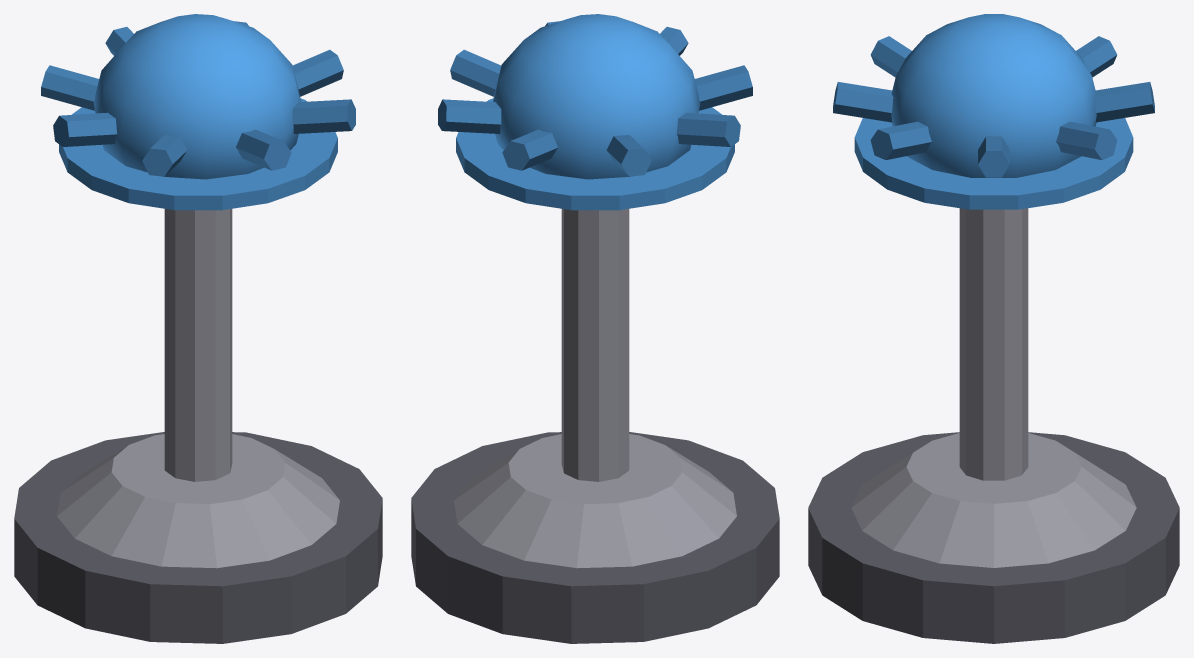
The model's file is Sprinkler_RareSprinkler.fbx.
The picture shows the model from 3 angles, left to right: view 1: azimuth 30°, elevation 25°; view 2: azimuth 150°, elevation 25°; view 3: azimuth 270°, elevation 25°; orthographic projection.
Visible parts, largest first — view 1: Base_RareSprinkler, Cabeca_RareSprinkler, Cano_RareSprinkler; view 2: Base_RareSprinkler, Cabeca_RareSprinkler, Cano_RareSprinkler; view 3: Base_RareSprinkler, Cabeca_RareSprinkler, Cano_RareSprinkler.
Part boxes in pixels (x1,y1,x2,y2): Base_RareSprinkler: (14, 432, 382, 643); Cabeca_RareSprinkler: (41, 14, 355, 210); Cano_RareSprinkler: (164, 209, 232, 481); Base_RareSprinkler: (411, 432, 779, 643); Cabeca_RareSprinkler: (438, 14, 752, 210); Cano_RareSprinkler: (561, 209, 629, 481); Base_RareSprinkler: (808, 432, 1179, 643); Cabeca_RareSprinkler: (833, 14, 1154, 209); Cano_RareSprinkler: (959, 208, 1028, 480).
Bounding box in the file's own units: 1.4 × 2.25 × 1.4.
Materials: 1 (1 with a texture image).
